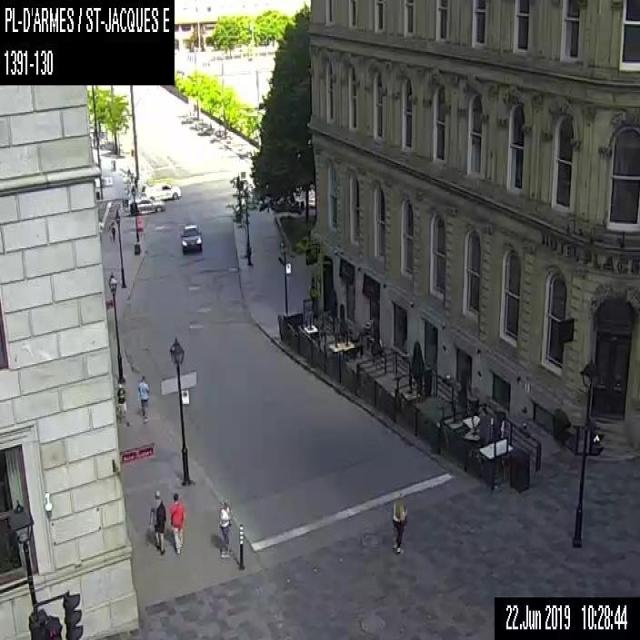pedestrian: (148, 488, 166, 553), (169, 491, 185, 553), (390, 498, 406, 552), (217, 499, 230, 556), (116, 381, 129, 426), (136, 375, 148, 421), (110, 222, 116, 242)
vehicle: (143, 176, 181, 200), (179, 222, 202, 254), (127, 196, 166, 212)
